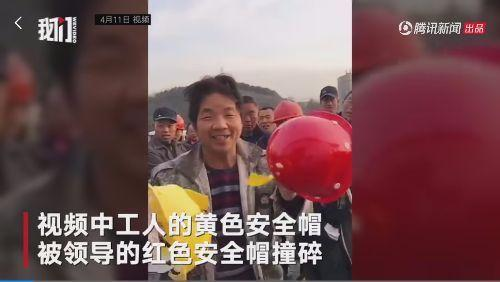helmet: (266, 108, 354, 207), (272, 99, 304, 124), (176, 114, 187, 132)
